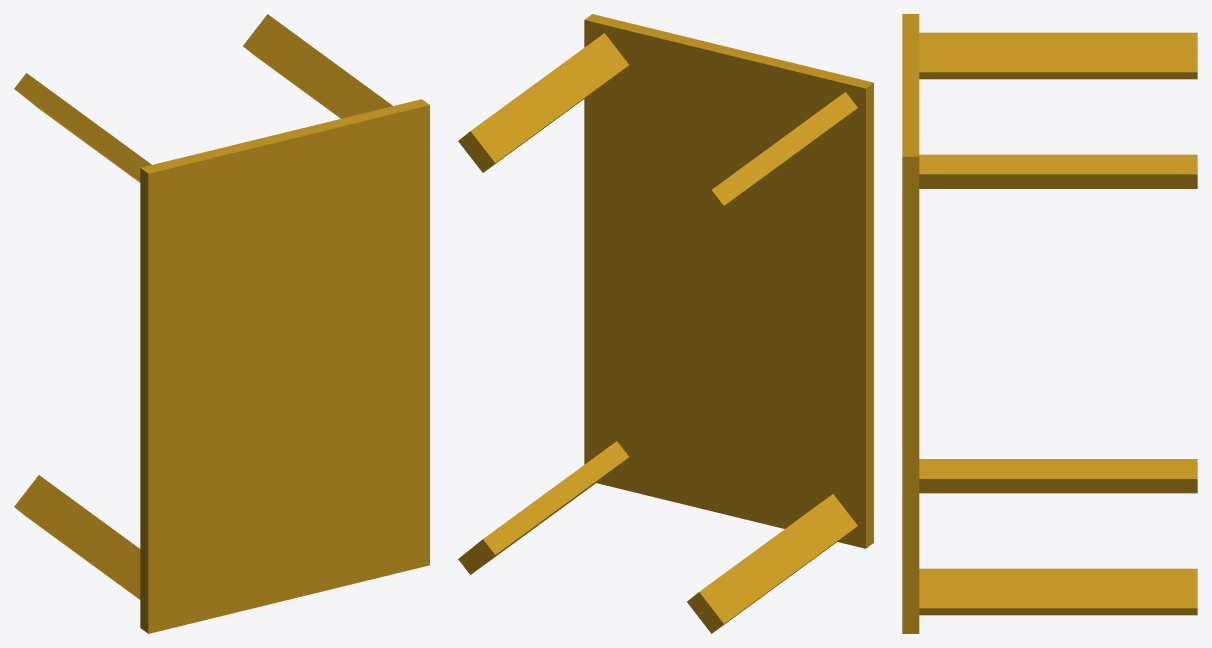
File: nil_link_mesh.dae
3 views of the same model, side by side, from view 1: azimuth 30°, elevation 25°; view 2: azimuth 150°, elevation 25°; view 3: azimuth 270°, elevation 25° (orthographic). The views are drawn at different scales.
Parts seen in each view (by area): view 1: nil_link (×4); view 2: nil_link (×5); view 3: nil_link (×5).
Part boxes in pixels (x1,y1,x2,y2): nil_link (×4): (14, 14, 429, 633); nil_link (×5): (458, 14, 873, 633); nil_link (×5): (902, 14, 1197, 633).
Bounding box in the file's own units: 0.8 × 1.25 × 0.7.
